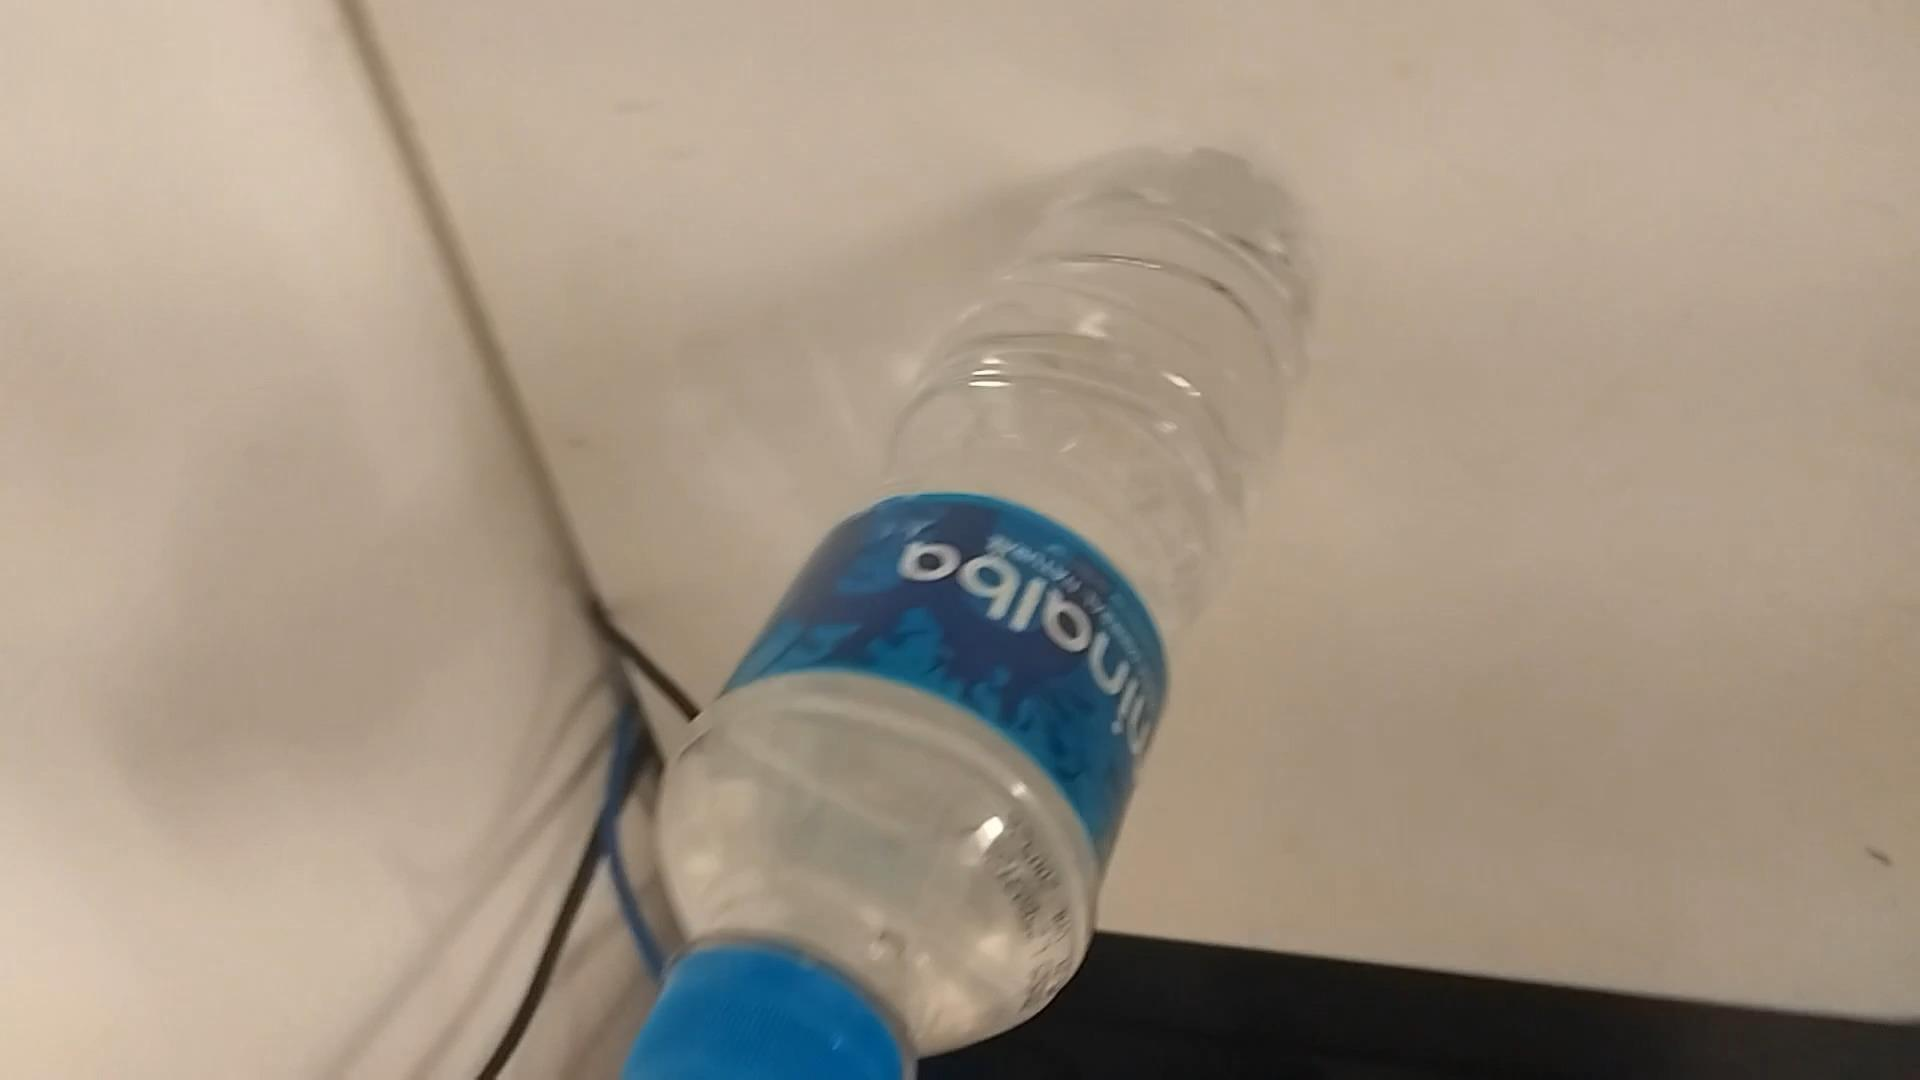agua: (592, 156, 1305, 1077)
